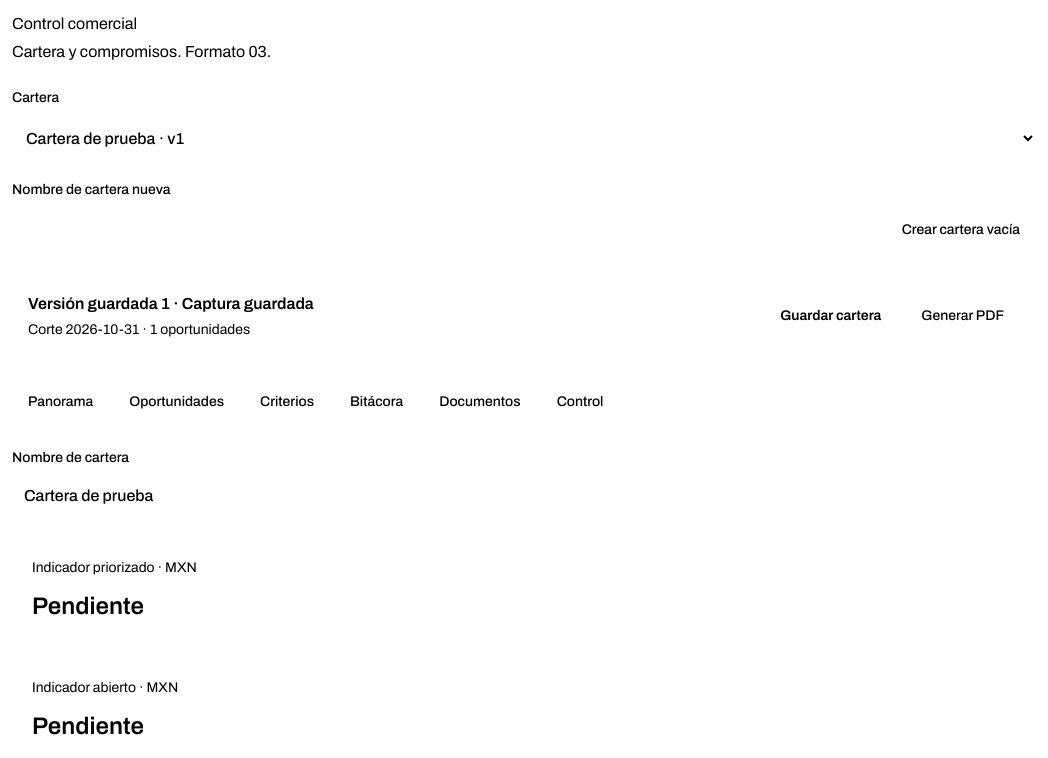
Test case: consumes the portfolio deep link once and does not reload after saving
This screenshot has width=1048, height=758.
Expected: the text "Versión guardada 1 · Captura guardada" is shown, x1=28 y1=292 x2=314 y2=316
Step 1. Replace the text in the field labelled "Nombre de cartera" with "Nueva versión" → (524, 496), box x1=12 y1=474 x2=1036 y2=518
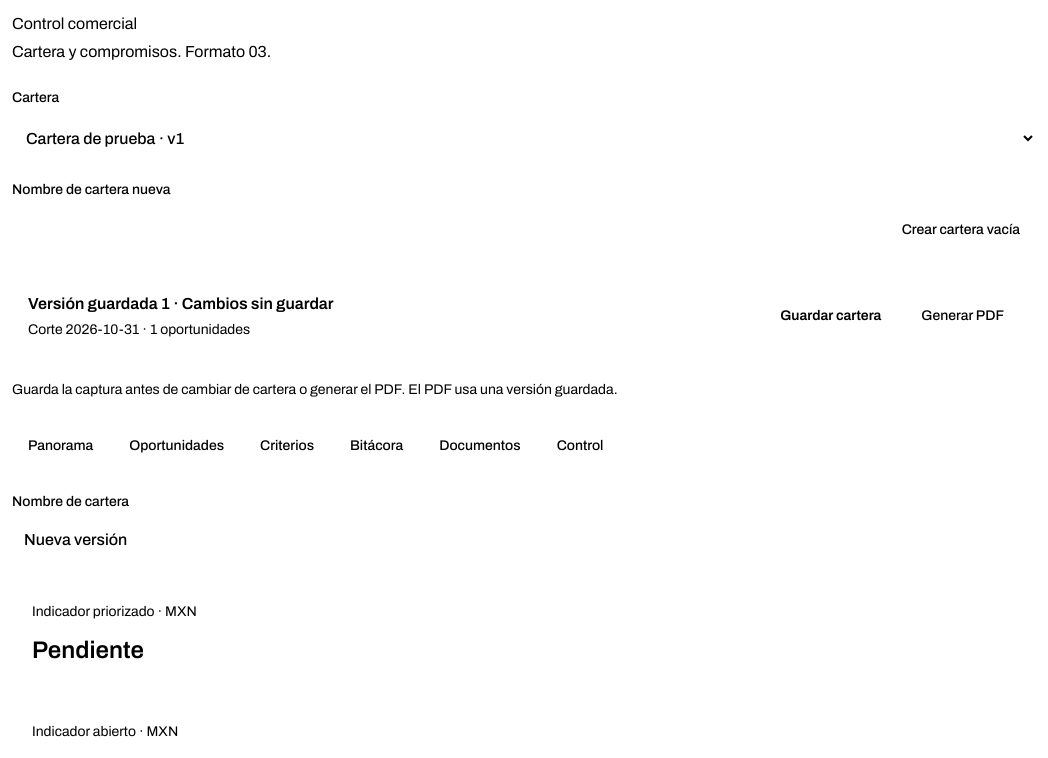
Step 2. Click the button "Guardar cartera" → (831, 316), box x1=764 y1=294 x2=897 y2=338
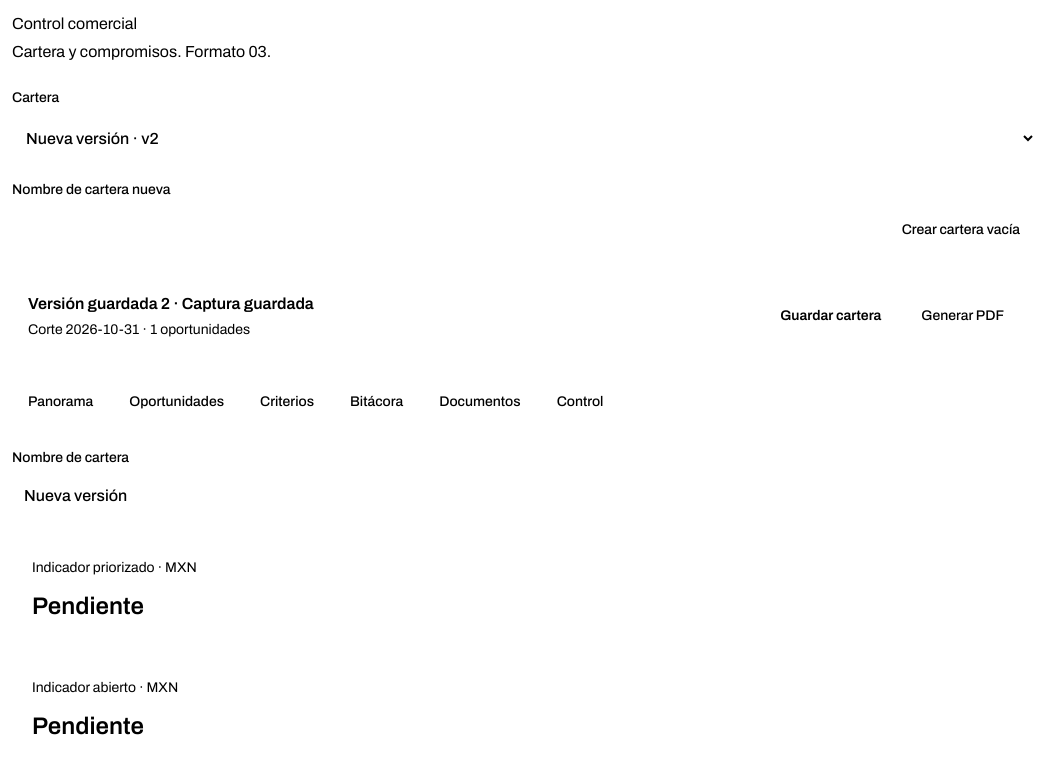
Result: the text "Versión guardada 2 · Captura guardada" is shown at x1=28 y1=292 x2=314 y2=316
